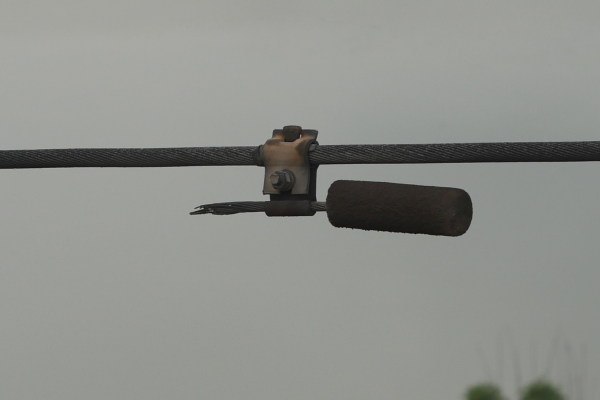damper_defect: (182, 118, 474, 240)
